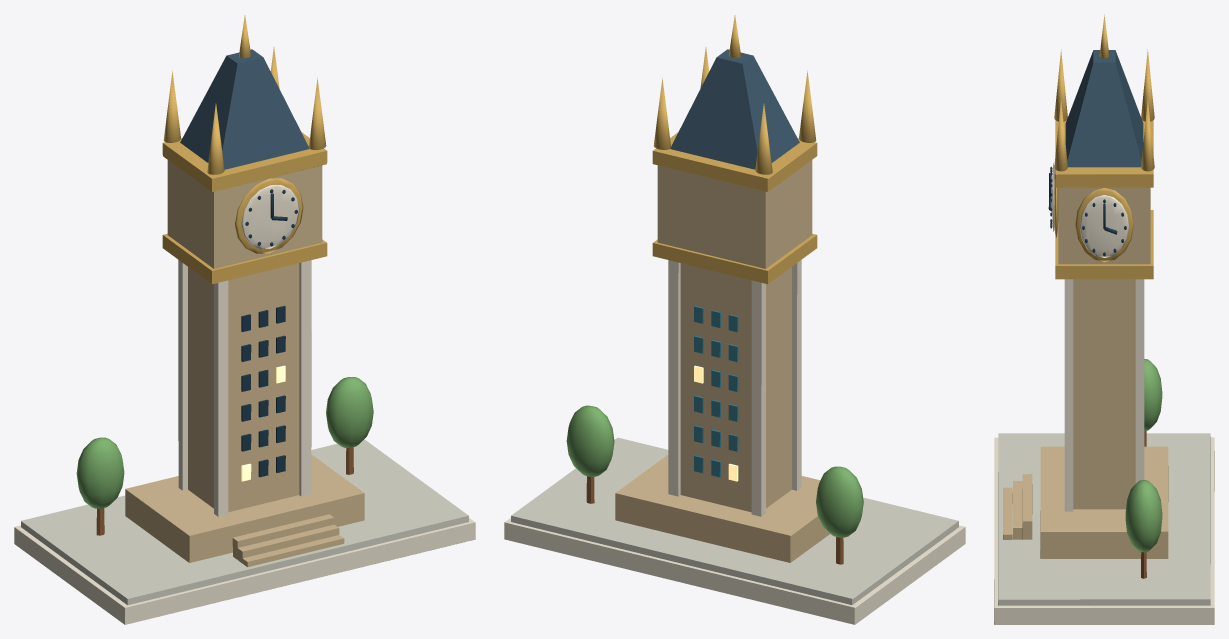
Rendered from big-ben.glb.
The picture shows the model from 3 angles, left to right: view 1: azimuth 30°, elevation 25°; view 2: azimuth 150°, elevation 25°; view 3: azimuth 270°, elevation 25°; orthographic projection.
Parts seen in each view (by area): view 1: Big Ben; view 2: Big Ben; view 3: Big Ben.
Part boxes in pixels (<box>): Big Ben: <box>14,15,475,624</box>; Big Ben: <box>504,15,965,624</box>; Big Ben: <box>994,14,1214,624</box>.
Size of the model in its own units: 1.47 by 2.12 by 0.8064.
